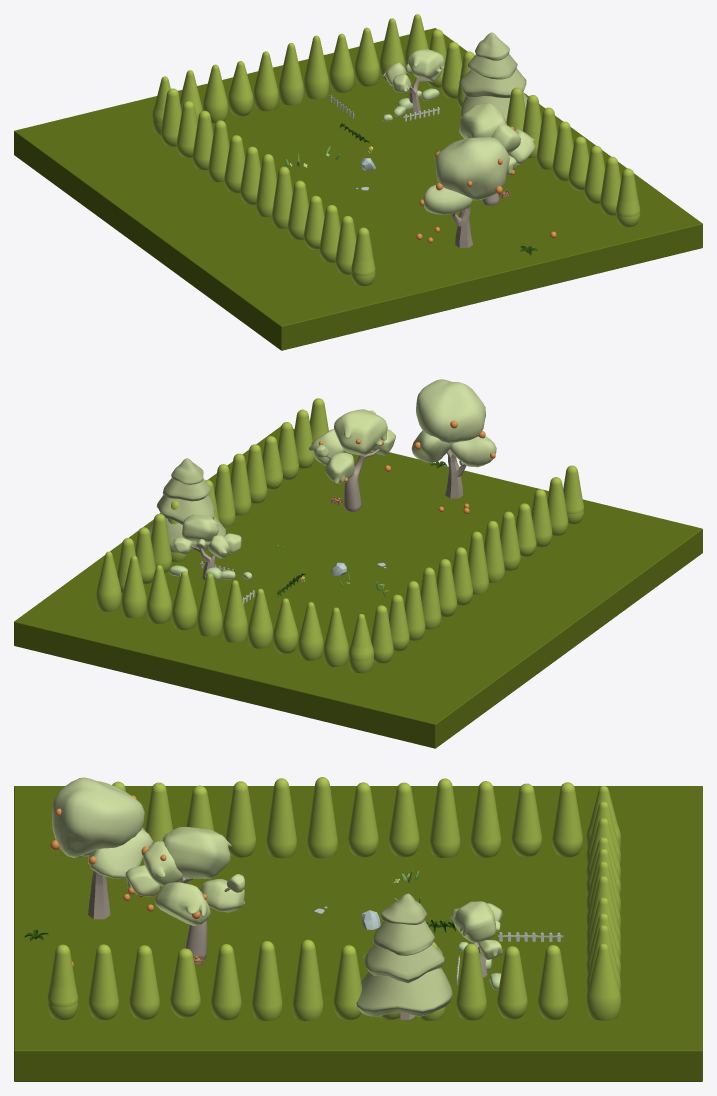
Rendered from cottage3.gltf.
The picture shows the model from 3 angles, top to bottom: view 1: azimuth 30°, elevation 25°; view 2: azimuth 150°, elevation 25°; view 3: azimuth 270°, elevation 25°; orthographic projection. The views are drawn at different scales.
Visible parts, largest first — view 1: Cube, zywoplot, Cube 2, Cube 8 (×2), Cylinder 7, Cube 3, Cylinder 8, Cylinder 9, Cylinder 3, Cylinder, Merged Geometry; view 2: Cube (×2), zywoplot, Cube 2, Cube 8 (×2), Cylinder 7, Cube 3, Cube 4, Cylinder 8, Cube 9, Cylinder, Cylinder 9, Cube 12; view 3: Cube (×2), zywoplot, Cube 2, Cube 8 (×2), Cylinder 3, Cylinder 7, Cube 12, Cube 4, Cylinder 8, Cube 11, Cube 9, Cylinder 9 (+3 smaller).
Boxes of the visible parts, <box> form: Cube: <box>14,28,702,350</box>; zywoplot: <box>152,14,640,286</box>; Cube 2: <box>435,137,509,200</box>; Cube 8 (×2): <box>407,49,506,138</box>; Cylinder 7: <box>459,68,526,97</box>; Cube 3: <box>423,184,472,214</box>; Cylinder 8: <box>468,54,517,79</box>; Cylinder 9: <box>475,32,509,60</box>; Cylinder 3: <box>461,92,527,121</box>; Cylinder: <box>451,206,472,247</box>; Merged Geometry: <box>383,88,439,121</box>; Cube (×2): <box>14,426,702,748</box>; zywoplot: <box>96,398,584,673</box>; Cube 2: <box>416,379,485,443</box>; Cube 8 (×2): <box>182,409,387,541</box>; Cylinder 7: <box>156,495,214,524</box>; Cube 3: <box>450,436,496,467</box>; Cube 4: <box>411,430,453,462</box>; Cylinder 8: <box>162,478,211,501</box>; Cube 9: <box>325,452,354,483</box>; Cylinder: <box>445,449,466,498</box>; Cylinder 9: <box>171,458,203,484</box>; Cube 12: <box>309,429,348,465</box>; Cube (×2): <box>14,786,702,1081</box>; zywoplot: <box>47,777,620,1020</box>; Cube 2: <box>52,777,144,857</box>; Cube 8 (×2): <box>162,827,495,942</box>; Cylinder 3: <box>356,968,452,1016</box>; Cylinder 7: <box>365,941,444,983</box>; Cube 12: <box>155,882,210,925</box>; Cube 4: <box>88,827,152,878</box>; Cylinder 8: <box>373,920,434,955</box>; Cube 11: <box>143,841,182,886</box>; Cube 9: <box>200,879,244,912</box>; Cylinder 9: <box>380,893,427,924</box>.
Bounding box in the file's own units: 44.58 × 13.74 × 48.98.
